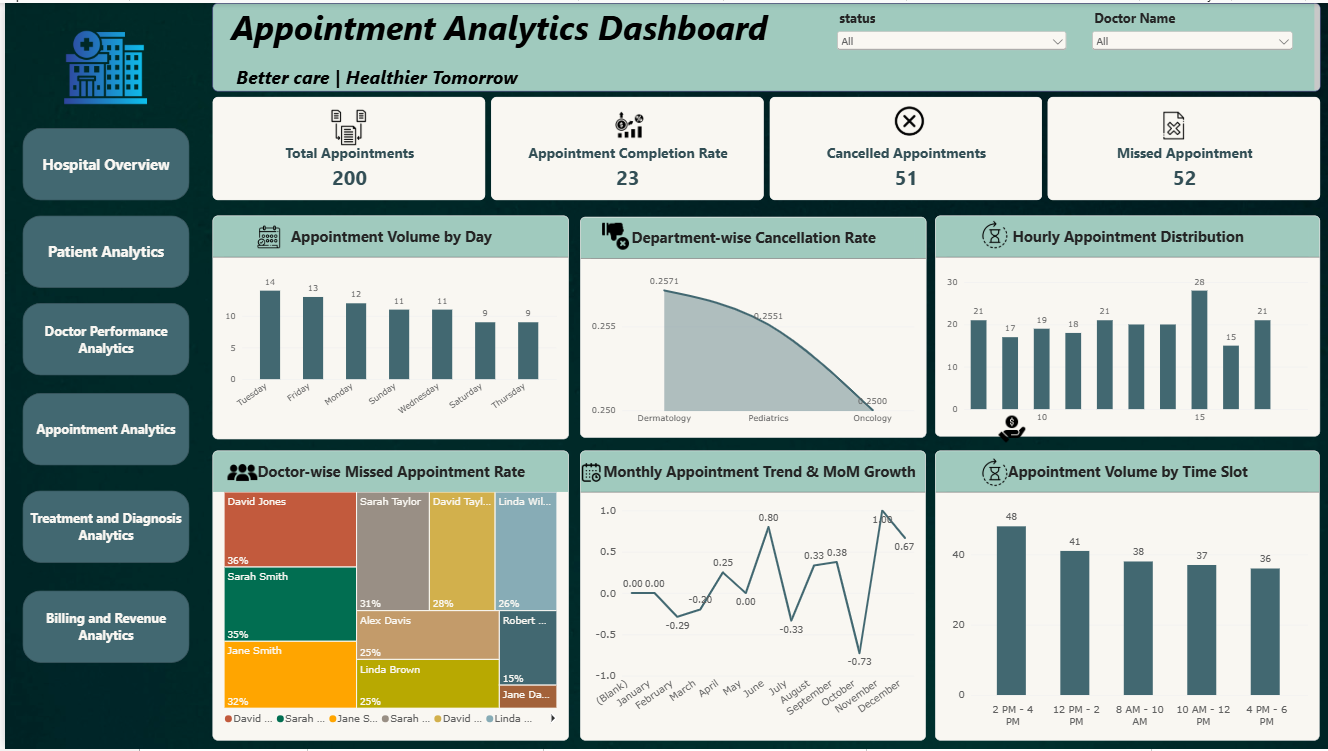

What the dashboard file says about the page in this screenshot:
{"tool":"powerbi","page":{"name":"Appointment Analytics Dashboard","canvas":[1920,1080],"ordinal":3},"visuals":[{"type":"textbox","box":[300,0,1604,128],"z":0},{"type":"shape","box":[25.3,181,241.8,104.8],"z":1000},{"type":"shape","box":[25.3,307.6,241.8,104.8],"z":2000},{"type":"shape","box":[25.3,434.3,241.8,104.8],"z":3000},{"type":"shape","box":[25.3,564.6,241.8,104.8],"z":4000},{"type":"shape","box":[25.3,705.8,241.8,104.8],"z":5000},{"type":"image","box":[77.8,29,135.7,128.5],"z":6000},{"type":"shape","box":[25.3,850.5,241.8,104.8],"z":7000},{"type":"cardVisual","fields":{"Data":["appointments.Total Appointments","appointments.Completion Percentage","appointments.Cancelled Appointments","appointments.Missed Appointment"]},"box":[300.4,135.7,1604,150],"z":8000},{"type":"clusteredColumnChart","title":"Appointment Volume by Day","fields":{"Category":["appointments.Day Name"],"Y":["CountNonNull(appointments.appointment_id)"]},"box":[300.4,307.6,515.8,323.9],"z":9000},{"type":"columnChart","title":"Hourly Appointment Distribution","fields":{"Category":["appointments.Appointment Hour"],"Y":["CountNonNull(appointments.appointment_id)"]},"box":[1346.4,307.6,557.4,320.3],"z":10000},{"type":"areaChart","title":"\tDepartment-wise Cancellation Rate","fields":{"Category":["doctors.specialization"],"Y":["appointments.Cancellation Rate"]},"box":[832.4,309.5,501.3,320.3],"z":11000},{"type":"treemap","title":"Doctor-wise Missed Appointment Rate","fields":{"Group":["doctors.Doctor Full Name"],"Values":["appointments.Missed Appointment Rate"]},"box":[300.4,647.9,515.8,419.8],"z":12000},{"type":"lineChart","title":"Monthly Appointment Trend & MoM Growth","fields":{"Category":["Calendar.Date.Variation.Date Hierarchy.Month"],"Y":["Calendar.MoM Growth %"]},"box":[832,648,501,420],"z":13000},{"type":"clusteredColumnChart","title":"Appointment Volume by Time Slot","fields":{"Category":["appointments.Appointment Time Slot"],"Y":["CountNonNull(appointments.appointment_id)"]},"box":[1346.4,647.9,557,420],"z":14000},{"type":"slicer","fields":{"Values":["appointments.status"]},"box":[1199.8,9,342,85.1],"z":15000},{"type":"slicer","fields":{"Values":["doctors.Doctor Full Name"]},"box":[1569,9,300.4,67],"z":16000},{"type":"image","box":[466.9,153.8,61.5,52.5],"z":17000},{"type":"image","box":[1664.9,157.4,54.3,39.8],"z":18000},{"type":"image","box":[1272.2,146.6,74.2,48.9],"z":19000},{"type":"image","box":[883.1,146.6,41.6,59.7],"z":20000},{"type":"image","box":[365.6,309.5,32.6,57.9],"z":22000},{"type":"image","box":[322.1,653.3,43.4,52.5],"z":23000},{"type":"image","box":[863.2,311.3,41.6,52.5],"z":24000},{"type":"image","box":[1407.9,309.5,50.7,52.5],"z":25000},{"type":"image","box":[834.3,666,29,27.1],"z":26000},{"type":"image","box":[1407.9,653.3,50.7,52.5],"z":26001},{"type":"image","box":[1436.9,593.6,41.6,47.1],"z":26002}]}

Visuals, with their boxes in screenshot pixels (x1, y1, x2, y2), scaled from the page's 1920x1080 canvas onto the 1328x751 screenshot:
textbox: BBox(208, 0, 1317, 89)
shape: BBox(17, 126, 185, 199)
shape: BBox(17, 214, 185, 287)
shape: BBox(17, 302, 185, 375)
shape: BBox(17, 393, 185, 465)
shape: BBox(17, 491, 185, 564)
image: BBox(54, 20, 148, 110)
shape: BBox(17, 591, 185, 664)
cardVisual - appointments.Total Appointments x appointments.Completion Percentage: BBox(208, 94, 1317, 199)
"Appointment Volume by Day" clusteredColumnChart: BBox(208, 214, 565, 439)
"Hourly Appointment Distribution" columnChart: BBox(931, 214, 1317, 437)
"	Department-wise Cancellation Rate" areaChart: BBox(576, 215, 922, 438)
"Doctor-wise Missed Appointment Rate" treemap: BBox(208, 451, 565, 742)
"Monthly Appointment Trend & MoM Growth" lineChart: BBox(575, 451, 922, 743)
"Appointment Volume by Time Slot" clusteredColumnChart: BBox(931, 451, 1317, 743)
slicer - appointments.status: BBox(830, 6, 1066, 65)
slicer - doctors.Doctor Full Name: BBox(1085, 6, 1293, 53)
image: BBox(323, 107, 365, 143)
image: BBox(1152, 109, 1189, 137)
image: BBox(880, 102, 931, 136)
image: BBox(611, 102, 640, 143)
image: BBox(253, 215, 275, 255)
image: BBox(223, 454, 253, 491)
image: BBox(597, 216, 626, 253)
image: BBox(974, 215, 1009, 252)
image: BBox(577, 463, 597, 482)
image: BBox(974, 454, 1009, 491)
image: BBox(994, 413, 1023, 446)
